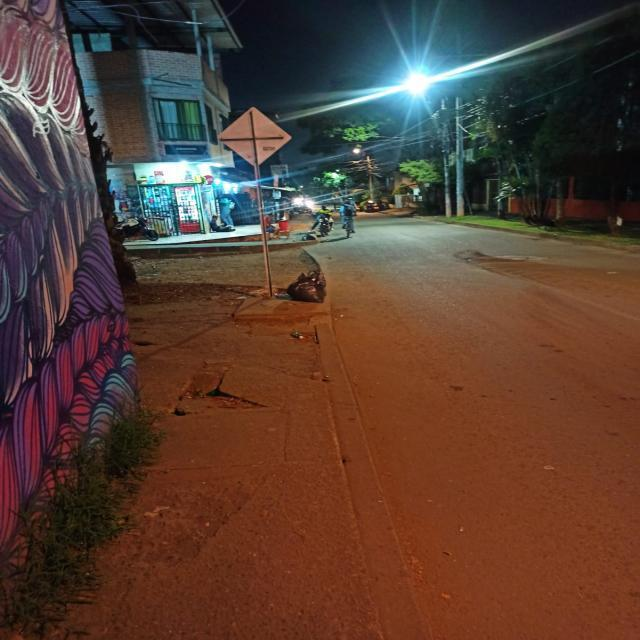Trashbag: (285, 268, 329, 304)
